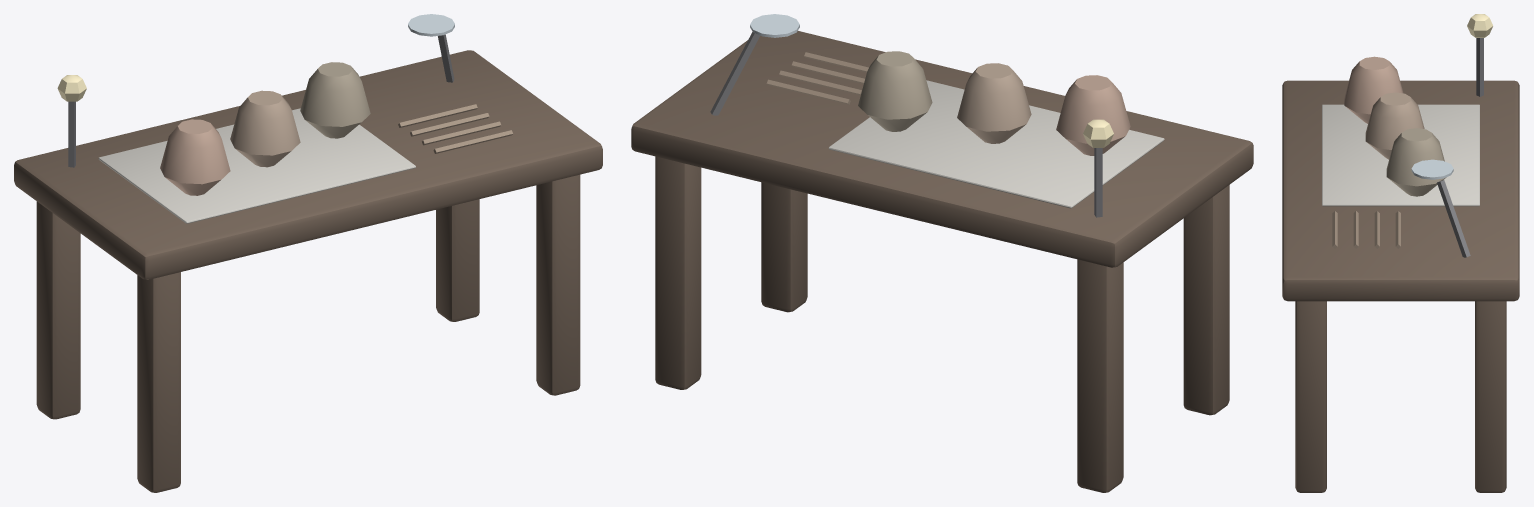
The model's file is restore_table.gltf.
The picture shows the model from 3 angles, left to right: view 1: azimuth 30°, elevation 25°; view 2: azimuth 150°, elevation 25°; view 3: azimuth 270°, elevation 25°; orthographic projection. The views are drawn at different scales.
Parts seen in each view (by area): view 1: Body; view 2: Body; view 3: Body.
Boxes of the visible parts, x1,y1,x2,y2 form: Body: [14, 14, 602, 492]; Body: [631, 14, 1253, 492]; Body: [1282, 14, 1519, 492].
Size of the model in its own units: 1.8 by 1.27 by 0.9.
